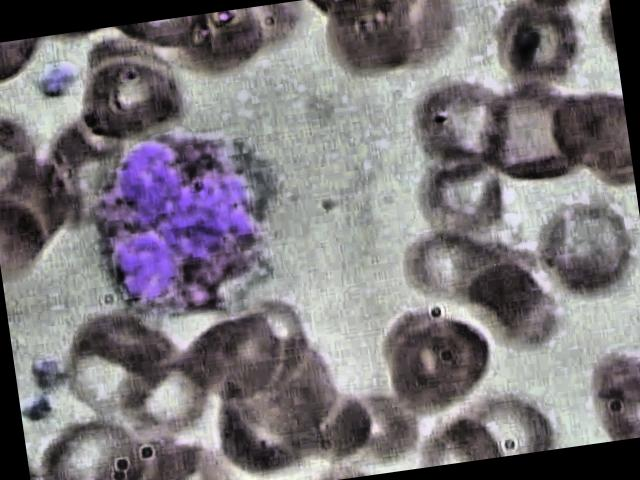Platelets: (35, 59, 80, 110), (28, 346, 70, 392), (20, 387, 60, 424)
WBC: (71, 116, 306, 330)
